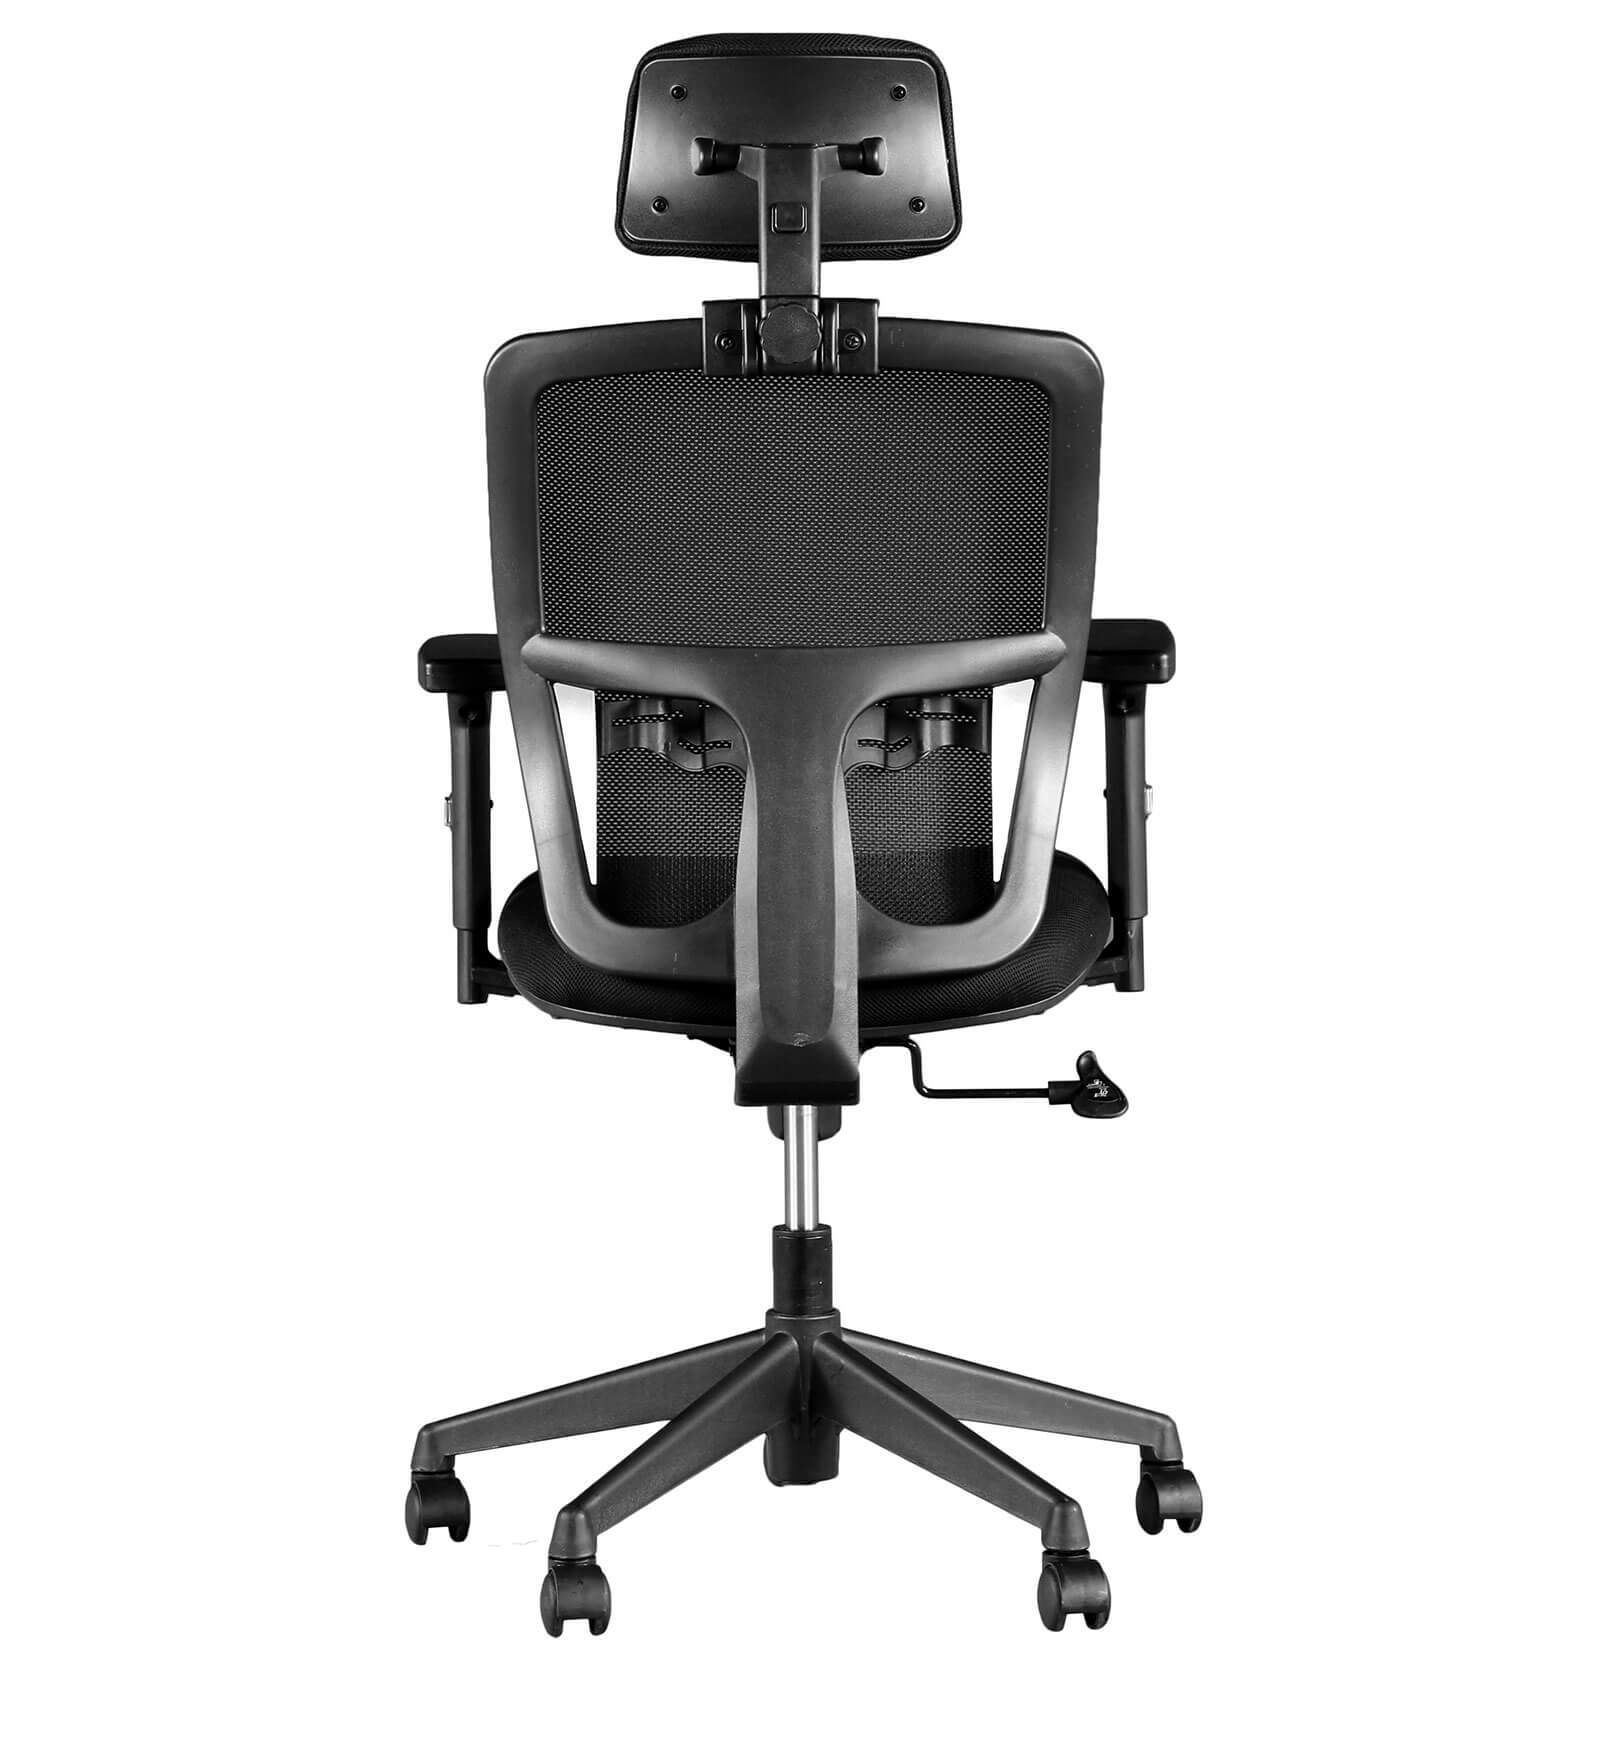Aspire High Back Ergonomic Chair in Black Colour by HomeTown: (363, 31, 1217, 1666)
